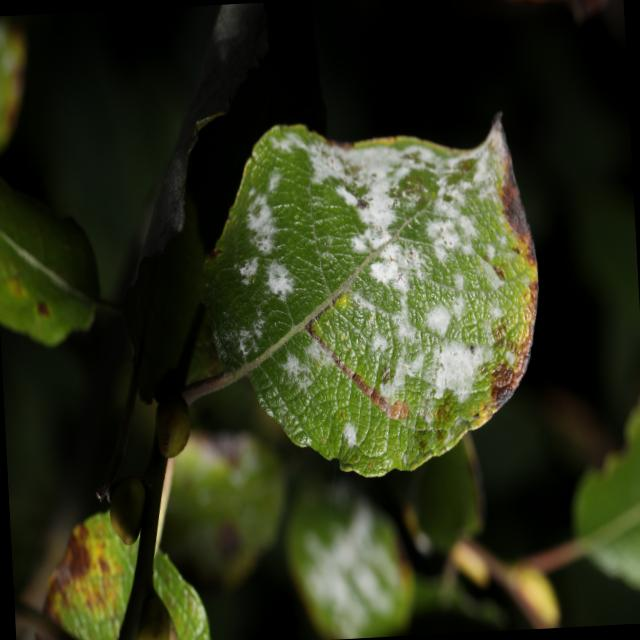powdery_mildew: (203, 118, 538, 476)
